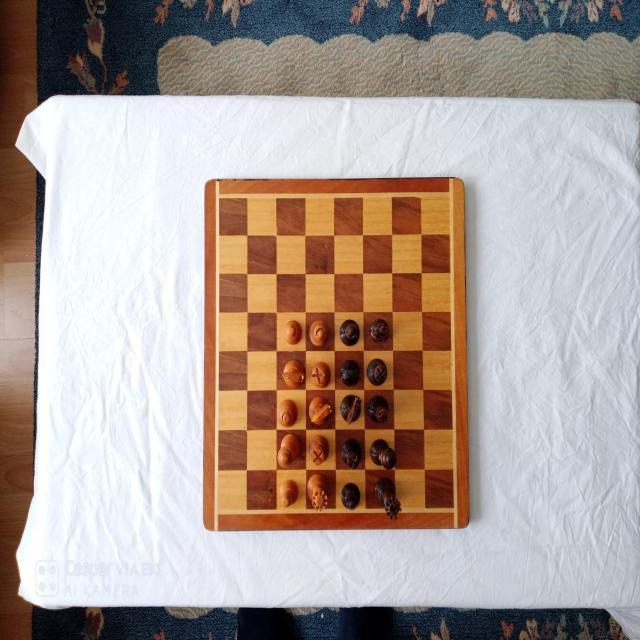black-bishop: (366, 394, 389, 422), (339, 318, 360, 346)
black-king: (371, 438, 397, 470)
black-knight: (340, 394, 362, 426), (339, 359, 361, 387)
black-pawn: (340, 482, 360, 510), (370, 317, 389, 343)
black-queen: (374, 477, 402, 521)
black-rook: (340, 438, 361, 470), (366, 358, 388, 386)
white-bishop: (278, 399, 298, 429), (309, 319, 329, 345)
white-king: (277, 434, 301, 470)
white-knight: (307, 395, 332, 424), (282, 359, 305, 389)
white-pawn: (279, 479, 299, 509), (283, 319, 302, 345)
white-queen: (306, 472, 329, 511)
white-rook: (308, 434, 329, 466), (311, 361, 331, 388)
